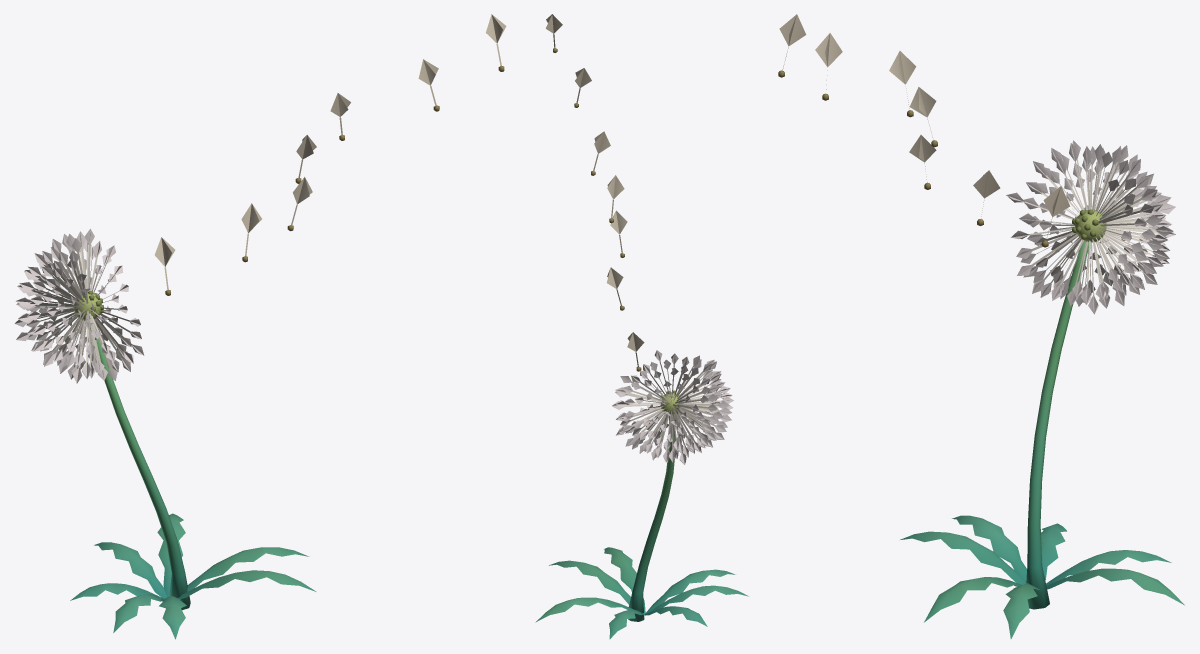
File: verdant_tree_dandelion_b.glb
3 renders of one model, left to right at view 1: azimuth 30°, elevation 25°; view 2: azimuth 150°, elevation 25°; view 3: azimuth 270°, elevation 25°, orthographic. The views are drawn at different scales.
Parts seen in each view (by area): view 1: verdant_tree_dandelion_b; view 2: verdant_tree_dandelion_b; view 3: verdant_tree_dandelion_b.
Boxes of the visible parts, x1=… form: verdant_tree_dandelion_b: x1=14, y1=14, x2=506, y2=639; verdant_tree_dandelion_b: x1=535, y1=14, x2=748, y2=639; verdant_tree_dandelion_b: x1=778, y1=14, x2=1184, y2=638.
Bounding box in the file's own units: 5.73 × 9.55 × 4.99.
